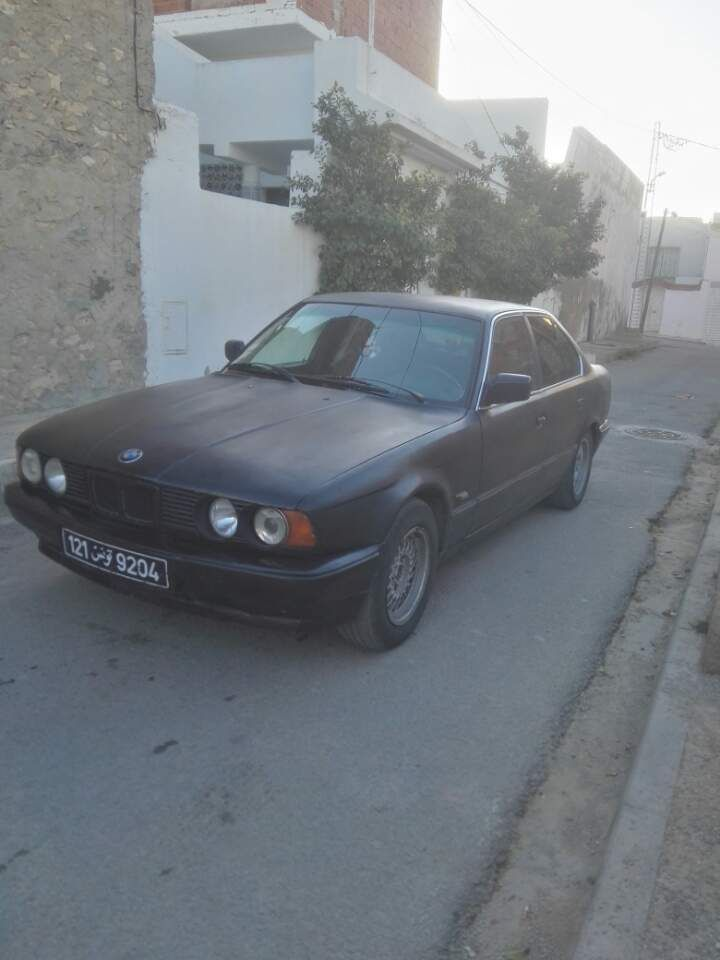LP: (57, 524, 169, 587)
